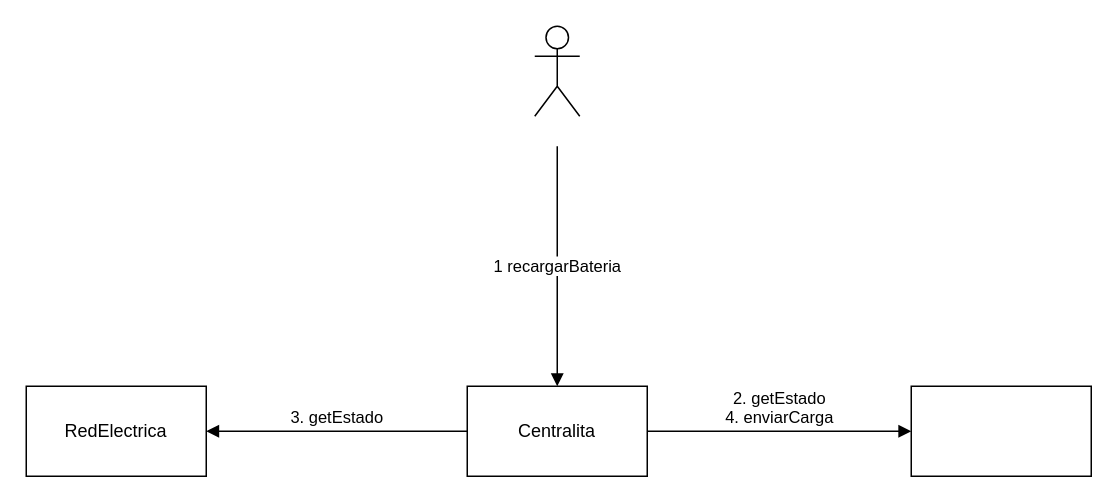
Image size: 1118x503. Some labels were removed from this diagram. Each missing label, with the centre of its shape:
"Bateria" goes at point (1000, 430).
"UsuarioPlaca" goes at point (556, 70).
